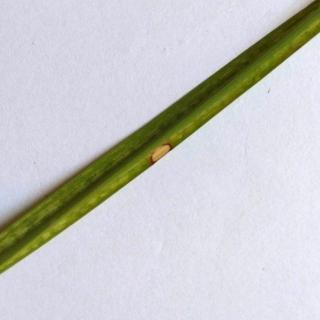Blast: (135, 138, 189, 169)
